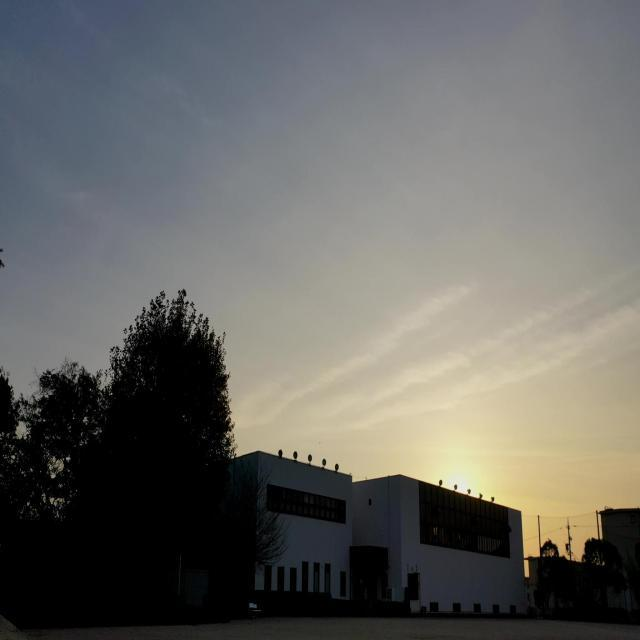Birds: (316, 438, 322, 448)
